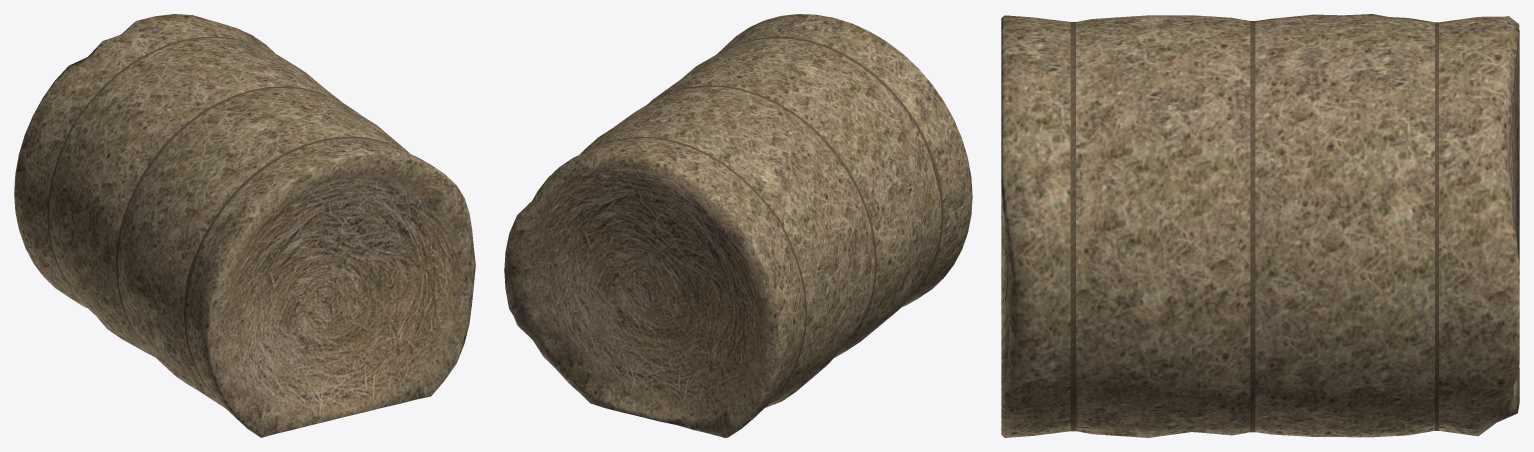
Rendered from hay_b.fbx.
The picture shows the model from 3 angles, left to right: view 1: azimuth 30°, elevation 25°; view 2: azimuth 150°, elevation 25°; view 3: azimuth 270°, elevation 25°; orthographic projection. The views are drawn at different scales.
Parts seen in each view (by area): view 1: Cylinder; view 2: Cylinder; view 3: Cylinder.
Boxes of the visible parts, left/top/right/bottom form: Cylinder: left=14, top=14, right=475, bottom=437; Cylinder: left=504, top=14, right=972, bottom=437; Cylinder: left=1001, top=14, right=1519, bottom=437.
Size of the model in its own units: 205 by 181 by 242.
